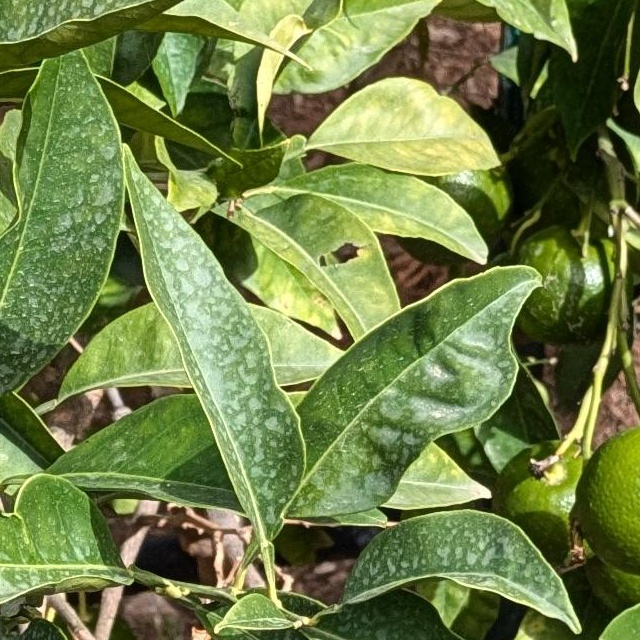orange: (501, 429, 603, 569), (515, 218, 635, 328), (418, 152, 514, 272), (582, 407, 640, 561), (584, 535, 640, 625)
